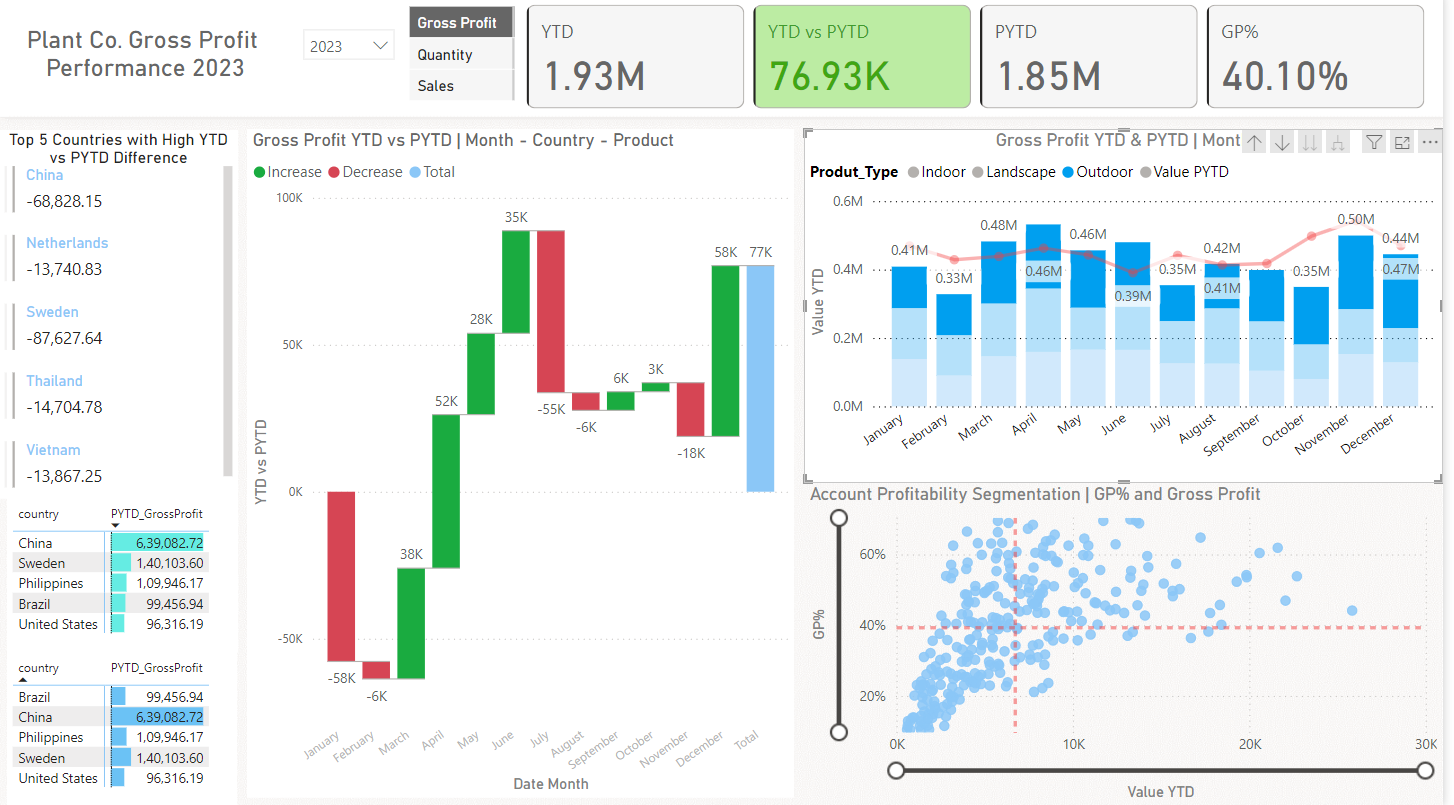

What the dashboard file says about the page in this screenshot:
{"tool":"powerbi","page":{"name":"Performance Report","canvas":[1280,720],"ordinal":0},"visuals":[{"type":"cardVisual","fields":{"Data":["_Measures.S_YTD","_Measures.YTD vs PYTD","_Measures.S_PYTD","_Measures.GP%"]},"box":[463,4.2,806.2,102.1],"z":0},{"type":"advancedSlicerVisual","fields":{"Values":["Slc_Values.Values"]},"box":[359.1,6.2,103.7,94],"z":1000},{"type":"slicer","fields":{"Values":["Dim_Date.Date.Variation.Date Hierarchy.Year"]},"box":[259.8,21.3,101.1,49.7],"z":2000},{"type":"waterfallChart","fields":{"Y":["_Measures.YTD vs PYTD"],"Category":["Dim_Date.Date.Variation.Date Hierarchy.Month","Dim_Account.country","Dim_Product.Produt_Type","Dim_Product.Product_Name"]},"box":[220.3,119.6,485.2,593.5],"z":4000},{"type":"lineStackedColumnComboChart","fields":{"Y":["_Measures.S_YTD"],"Y2":["_Measures.S_PYTD"],"Category":["Dim_Date.Date.Variation.Date Hierarchy.Quarter","Dim_Date.Date.Variation.Date Hierarchy.Month"],"Series":["Dim_Product.Produt_Type"]},"box":[714.1,119.6,565.9,314.3],"z":5000},{"type":"scatterChart","fields":{"Y":["_Measures.GP%"],"X":["_Measures.S_YTD"],"Category":["Dim_Account.Account"]},"box":[714.1,433.9,565.9,285.8],"z":6000},{"type":"card","fields":{"Values":["_Measures._Report title"]},"box":[0,4.4,259.8,95.8],"z":7000},{"type":"multiRowCard","title":"Top 5 Countries with High YTD vs PYTD Difference","fields":{"Values":["Dim_Account.country","_Measures.Top 3 Negative Difference"]},"box":[0,120.2,211.6,326.7],"z":9000},{"type":"pivotTable","title":"Bottom 10 YTD vs PYTD | Country","fields":{"Rows":["Dim_Account.country"],"Values":["_Measures.PYTD_GrossProfit"]},"box":[7.1,446.9,204.8,136.6],"z":10000},{"type":"pivotTable","title":"Bottom 10 YTD vs PYTD | Country","fields":{"Rows":["Dim_Account.country"],"Values":["_Measures.PYTD_GrossProfit"]},"box":[7.2,583.5,204.4,135.6],"z":10001}]}

Visuals, with their boxes in screenshot pixels (x1, y1, x2, y2), scaled from the page's 1280x720 canvas onto the 1454x805 screenshot:
cardVisual - _Measures.S_YTD x _Measures.YTD vs PYTD: (526, 5, 1442, 119)
advancedSlicerVisual - Slc_Values.Values: (408, 7, 526, 112)
slicer - Dim_Date.Date.Variation.Date Hierarchy.Year: (295, 24, 410, 79)
waterfallChart - _Measures.YTD vs PYTD x Dim_Date.Date.Variation.Date Hierarchy.Month: (250, 134, 801, 797)
lineStackedColumnComboChart - _Measures.S_YTD x _Measures.S_PYTD: (811, 134, 1453, 485)
scatterChart - _Measures.GP% x _Measures.S_YTD: (811, 485, 1453, 804)
card - _Measures._Report title: (0, 5, 295, 112)
"Top 5 Countries with High YTD vs PYTD Difference" multiRowCard: (0, 134, 240, 500)
"Bottom 10 YTD vs PYTD | Country" pivotTable: (8, 500, 241, 652)
"Bottom 10 YTD vs PYTD | Country" pivotTable: (8, 652, 240, 804)
